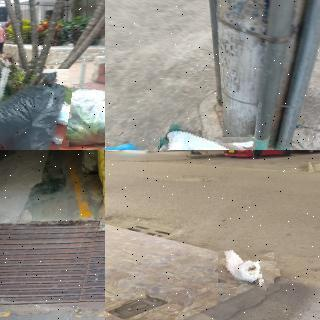Garbage: (0, 62, 74, 150), (49, 86, 105, 147), (217, 246, 276, 287), (155, 129, 258, 150)
